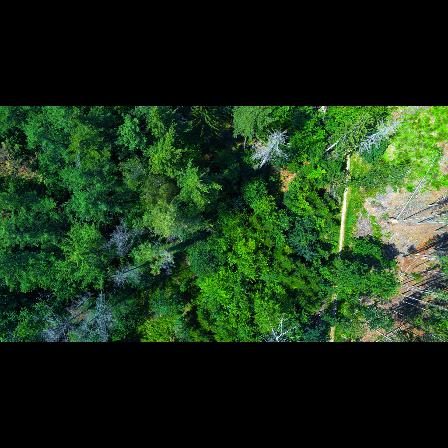Dead: (350, 116, 409, 156), (246, 125, 291, 172), (105, 223, 154, 255), (254, 309, 301, 342), (82, 294, 117, 337), (39, 309, 81, 340)
